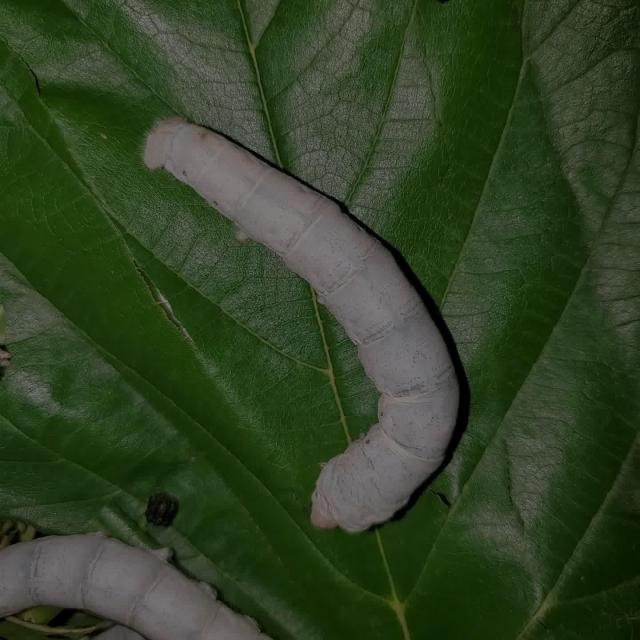Healthy: (136, 107, 467, 538)
